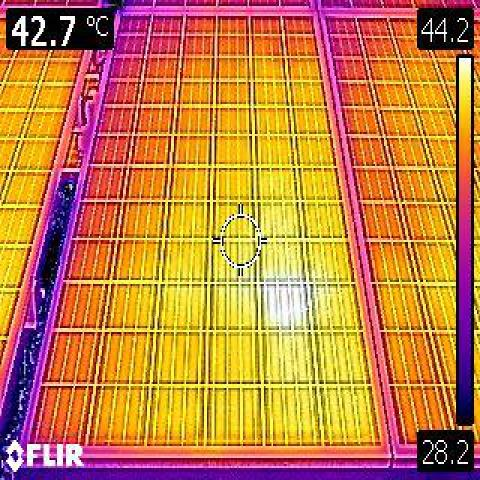fault: (266, 283, 310, 331)
